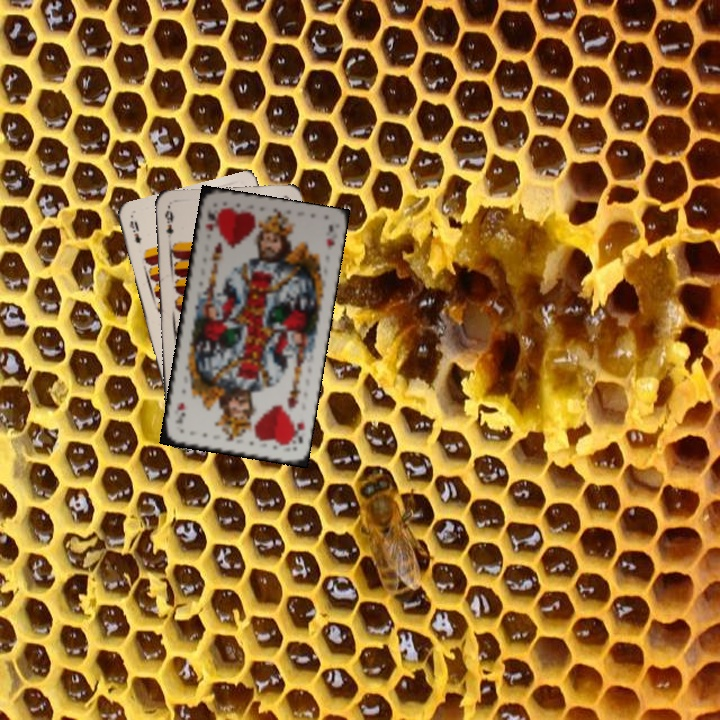E9: (160, 204, 176, 240), (125, 216, 144, 246)
HK: (286, 416, 307, 448), (201, 206, 219, 234)
